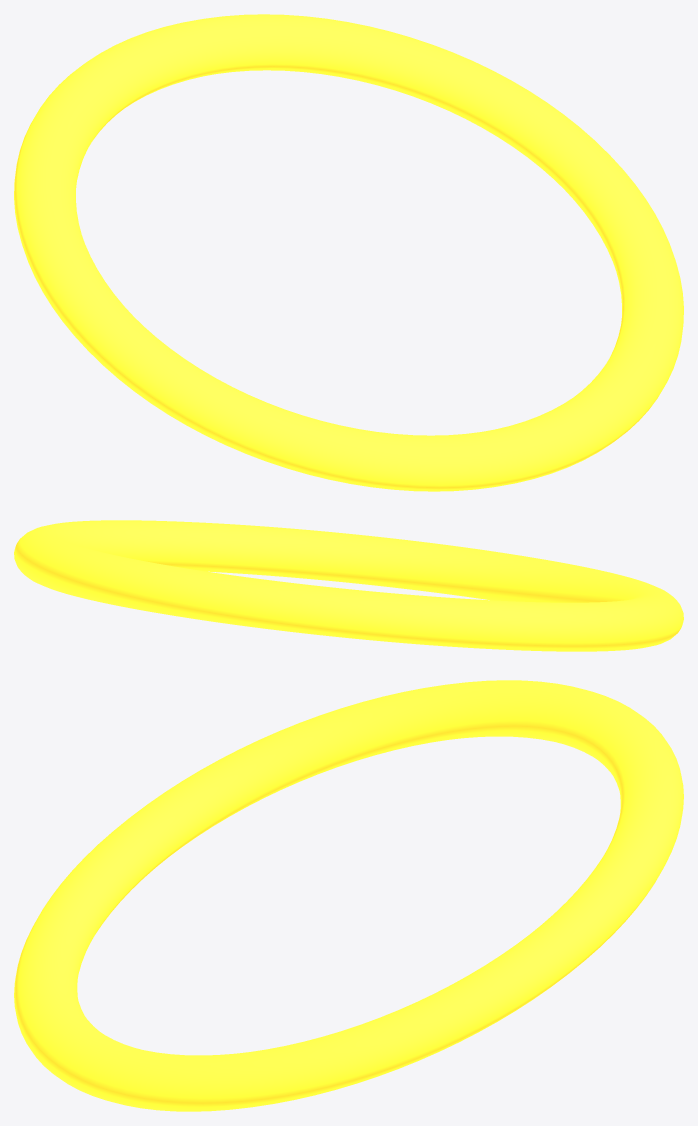
File: halo.glb
3 views of the same model, one above another, from view 1: azimuth 30°, elevation 25°; view 2: azimuth 150°, elevation 25°; view 3: azimuth 270°, elevation 25° (orthographic). The views are drawn at different scales.
Visible parts, largest first — view 1: Halo; view 2: Halo; view 3: Halo.
Boxes of the visible parts, left/top/right/bottom form: Halo: left=14, top=14, right=683, bottom=491; Halo: left=14, top=520, right=683, bottom=651; Halo: left=14, top=680, right=683, bottom=1111.
Bounding box in the file's own units: 0.6575 × 0.2605 × 0.6225.
